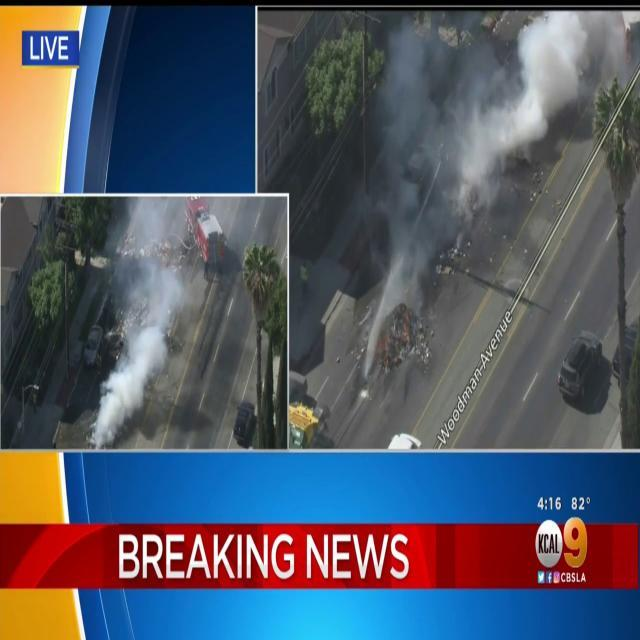Smoke: (363, 4, 634, 203), (94, 196, 192, 442)
